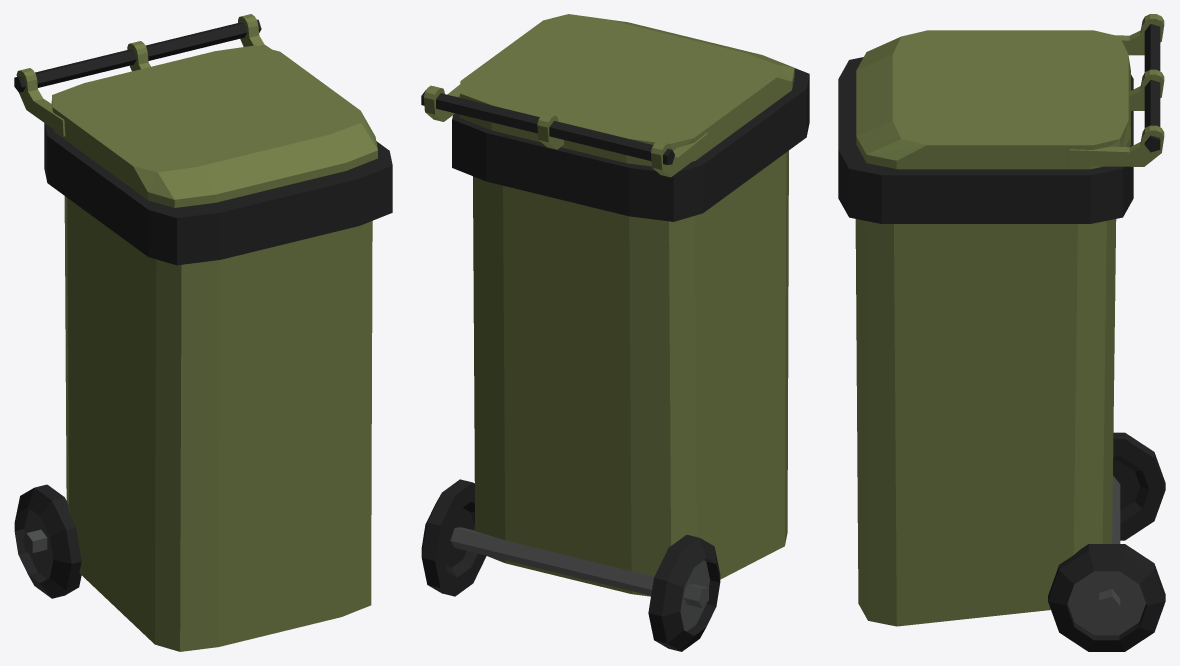
The model's file is SM_garbagecan_01.fbx.
3 views of the same model, side by side, from view 1: azimuth 30°, elevation 25°; view 2: azimuth 150°, elevation 25°; view 3: azimuth 270°, elevation 25° (orthographic). The views are drawn at different scales.
Visible parts, largest first — view 1: Box5718; view 2: Box5718; view 3: Box5718.
Boxes of the visible parts, left/top/right/bottom form: Box5718: left=14, top=14, right=392, bottom=651; Box5718: left=421, top=14, right=809, bottom=651; Box5718: left=838, top=14, right=1165, bottom=651.
Bounding box in the file's own units: 29.02 × 53.34 × 30.4.
